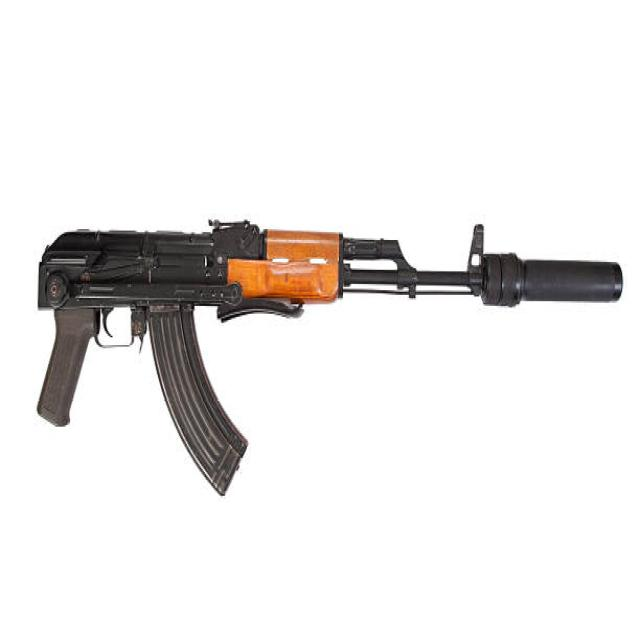rifle: (26, 201, 629, 500)
